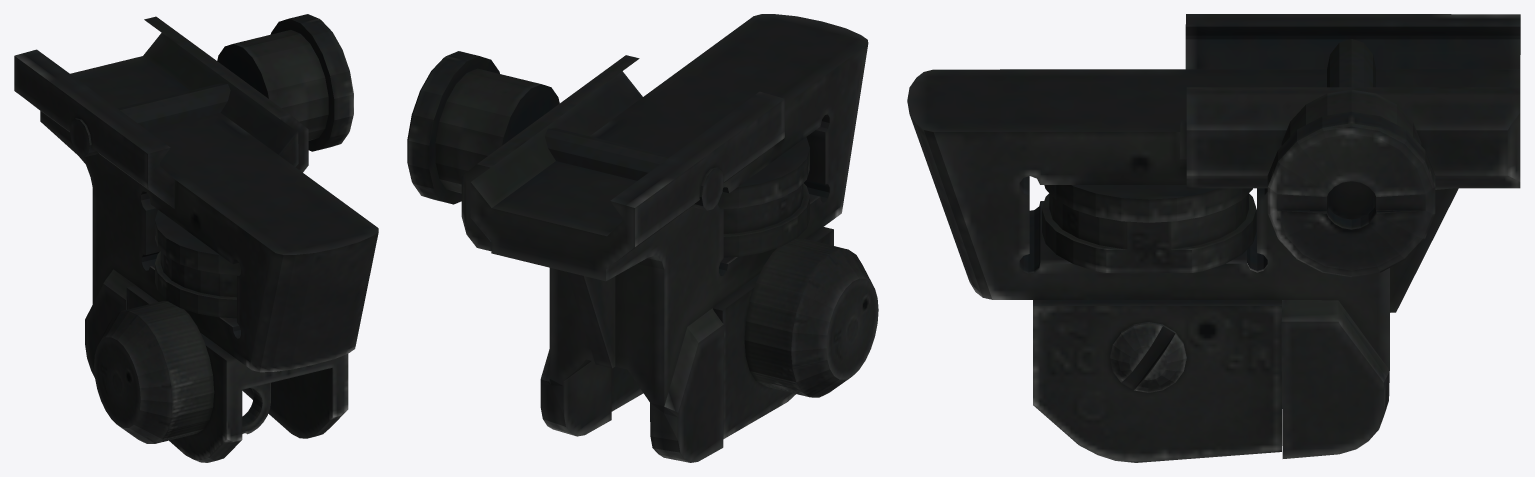
3 views of the same model, side by side, from view 1: azimuth 30°, elevation 25°; view 2: azimuth 150°, elevation 25°; view 3: azimuth 270°, elevation 25° (orthographic). The views are drawn at different scales.
Parts seen in each view (by area): view 1: TW_55d5f46a4bdc2d1b198b4567_PZ_Import; view 2: TW_55d5f46a4bdc2d1b198b4567_PZ_Import; view 3: TW_55d5f46a4bdc2d1b198b4567_PZ_Import.
Boxes of the visible parts, box(x1,y1,x2,y2) form: TW_55d5f46a4bdc2d1b198b4567_PZ_Import: box(14, 14, 378, 462); TW_55d5f46a4bdc2d1b198b4567_PZ_Import: box(407, 14, 878, 462); TW_55d5f46a4bdc2d1b198b4567_PZ_Import: box(907, 14, 1520, 462).
Size of the model in its own units: 0.0273 by 0.0398 by 0.0289.
Materials: 1 (1 with a texture image).
